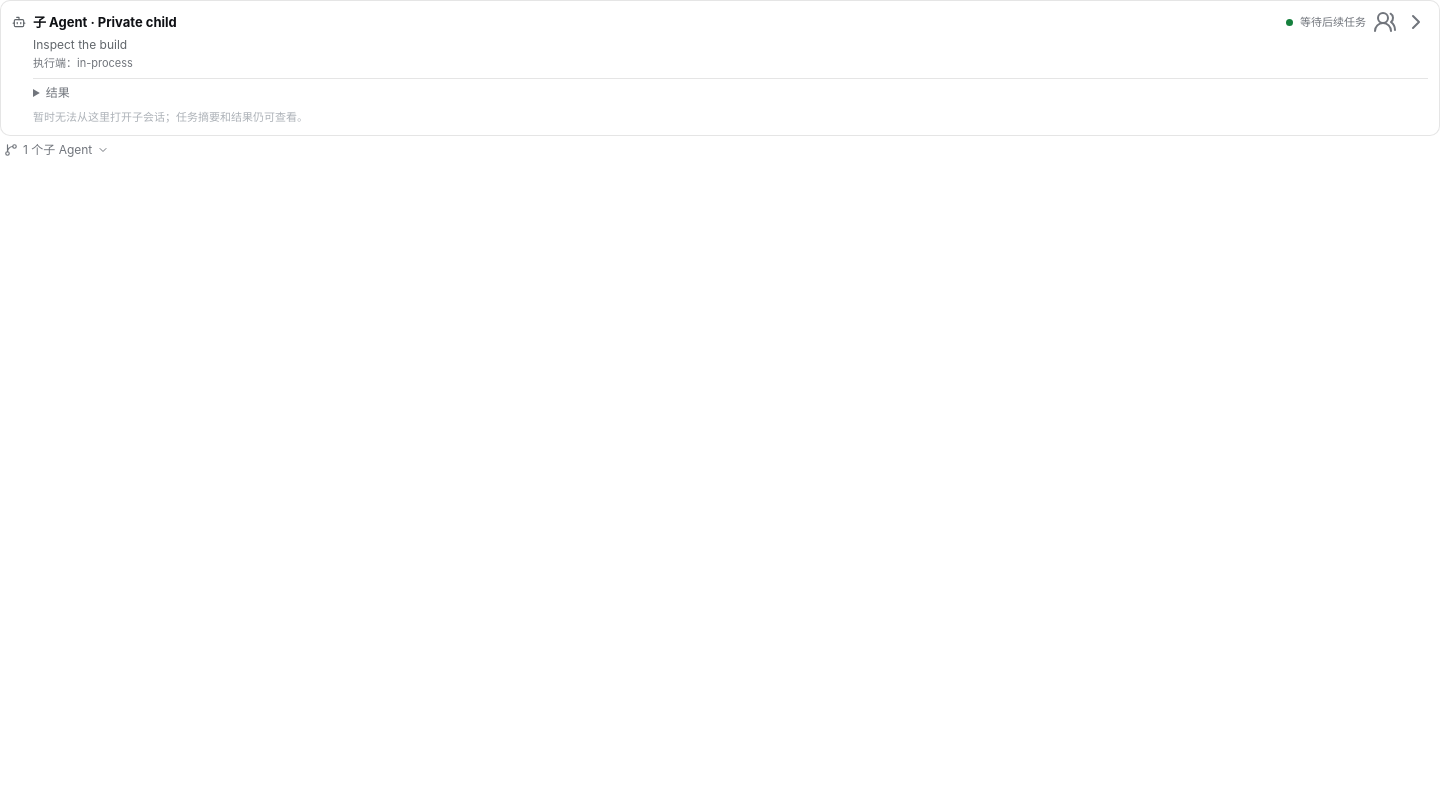
Test case: AgentTeamSurface › keeps a bound child readable in the shared parent without claiming its transcript is absent or requesting access
Check: the element that starts with "子 Agent · Private child" shows "暂时无法从这里打开子会话；任务摘要和结果仍可查看。", box [33, 110, 308, 124]
Click the button "1 个子 Agent".
click(57, 150)  # box [0, 136, 113, 164]
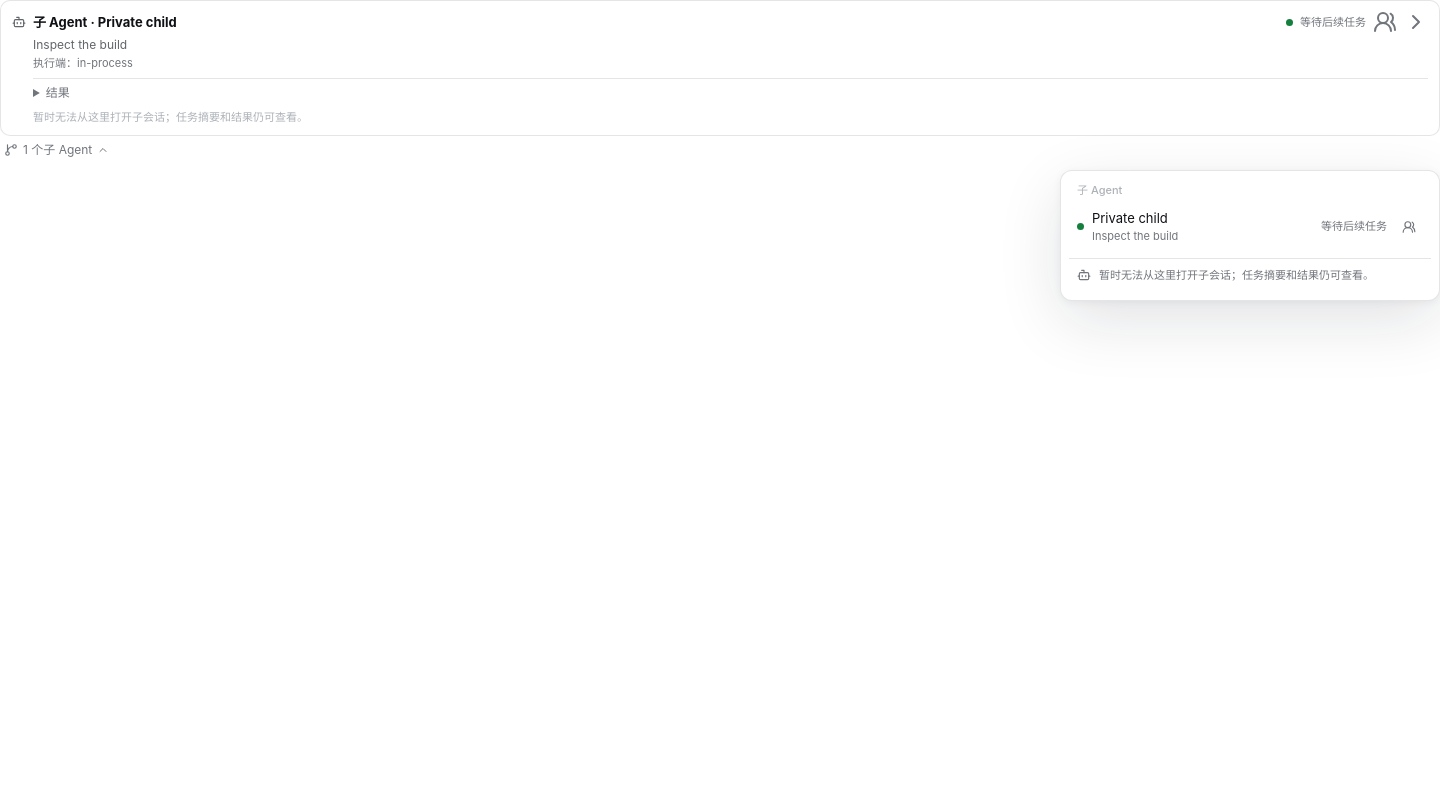
Check: the element that starts with "1 个子 Agent" shows "暂时无法从这里打开子会话；任务摘要和结果仍可查看。", box [1099, 268, 1374, 282]
Click the 2nd button named "在 Agent Team 中打开“Private child”".
click(1409, 226)  # box [1395, 212, 1423, 240]
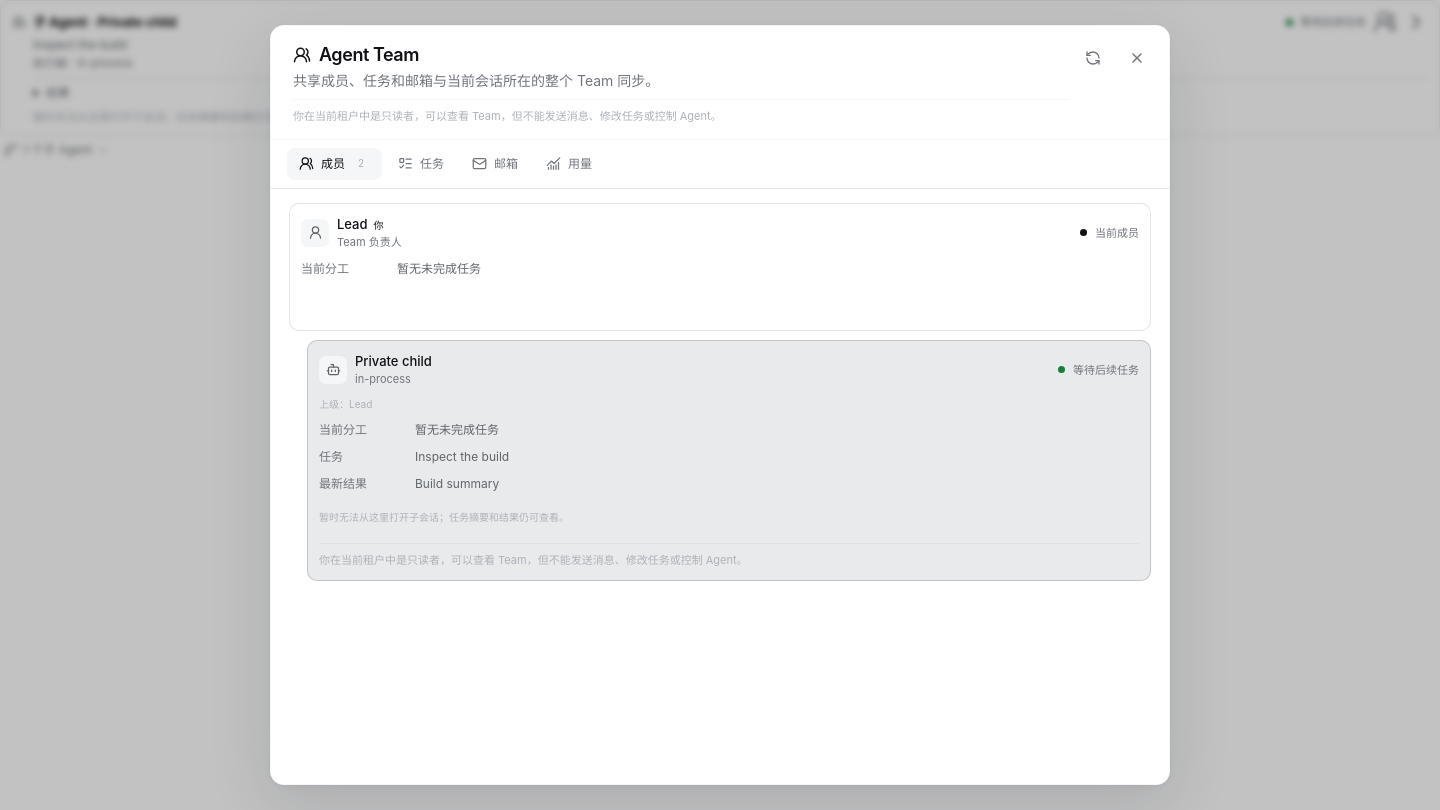
Check: the list item that starts with "Private child" shows "暂时无法从这里打开子会话；任务摘要和结果仍可查看。", box [319, 511, 569, 523]
Check: the list item that starts with "Private child" shows "Inspect the build", box [415, 449, 509, 464]
Check: the element showing "最新结果 Build summary" is shown, box [319, 476, 499, 491]
